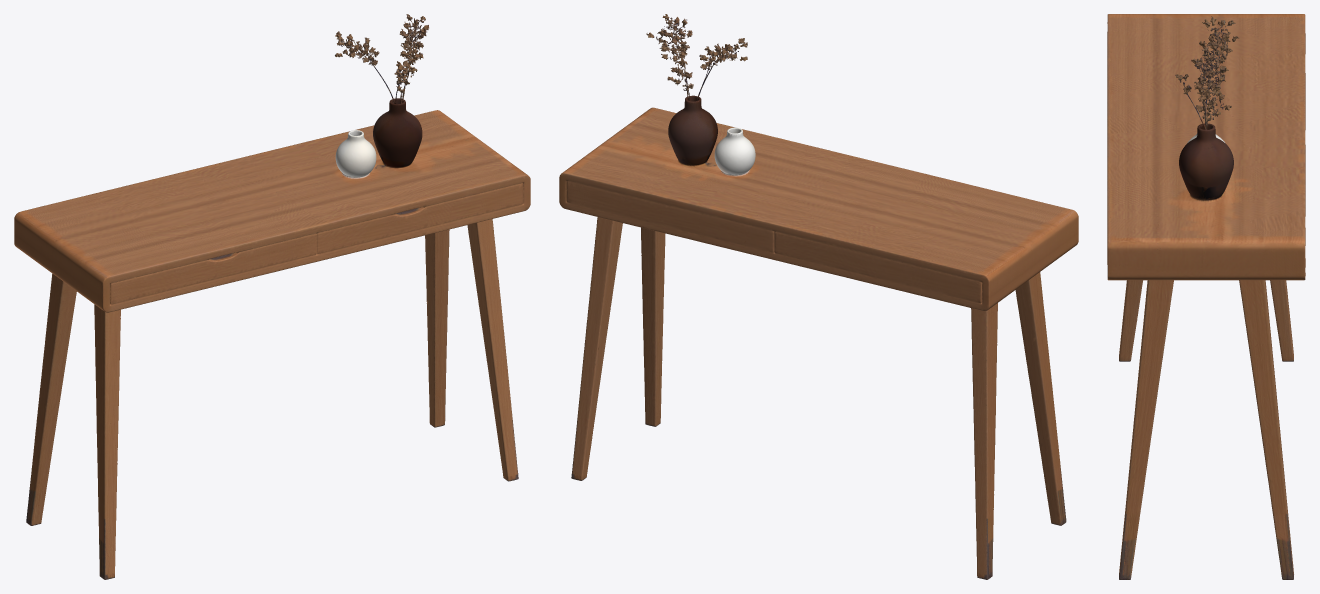
3 views of the same model, side by side, from view 1: azimuth 30°, elevation 25°; view 2: azimuth 150°, elevation 25°; view 3: azimuth 270°, elevation 25° (orthographic). The views are drawn at different scales.
Visible parts, largest first — view 1: Mesh_0; view 2: Mesh_0; view 3: Mesh_0.
Part boxes in pixels (bbox=[...]): Mesh_0: bbox=[14, 14, 530, 579]; Mesh_0: bbox=[559, 14, 1078, 579]; Mesh_0: bbox=[1107, 14, 1305, 579].
Bounding box in the file's own units: 0.7809 × 0.78 × 0.2822.
1 material, 1 textured.
